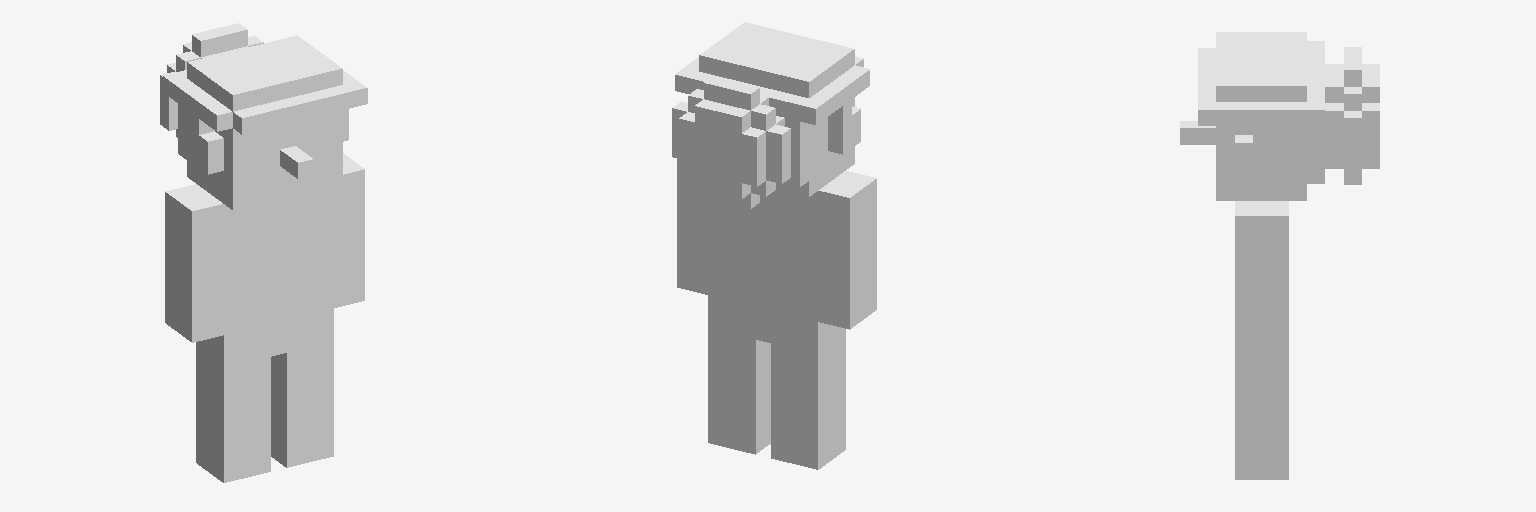
The model's file is Usopp.obj.
3 views of the same model, side by side, from view 1: azimuth 30°, elevation 25°; view 2: azimuth 150°, elevation 25°; view 3: azimuth 270°, elevation 25° (orthographic).
Parts seen in each view (by area): view 1: object 1; view 2: object 1; view 3: object 1.
Boxes of the visible parts, x1=… form: object 1: x1=160, y1=23, x2=367, y2=482; object 1: x1=672, y1=22, x2=876, y2=469; object 1: x1=1180, y1=32, x2=1379, y2=479.
Size of the model in its own units: 1.1 by 2.4 by 1.1.